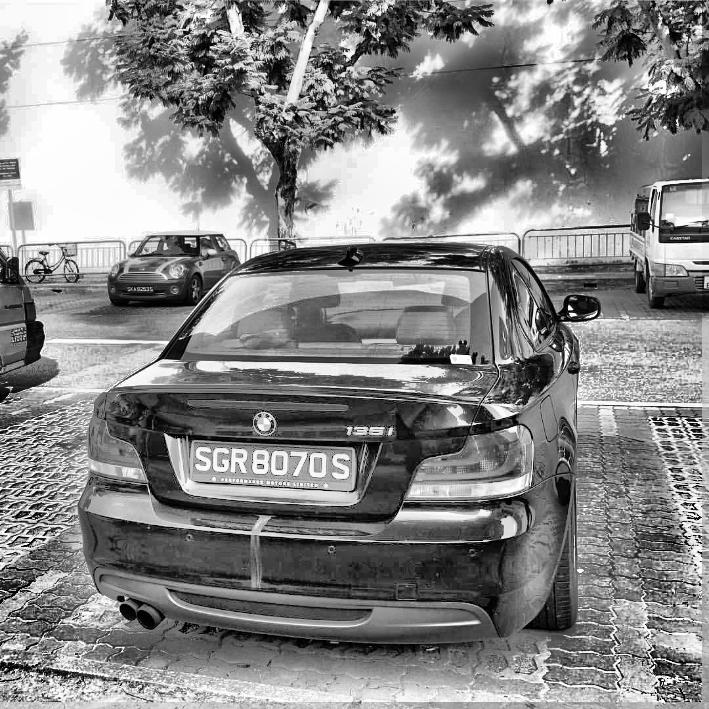License-Plates: (193, 443, 352, 483), (127, 286, 153, 290)
